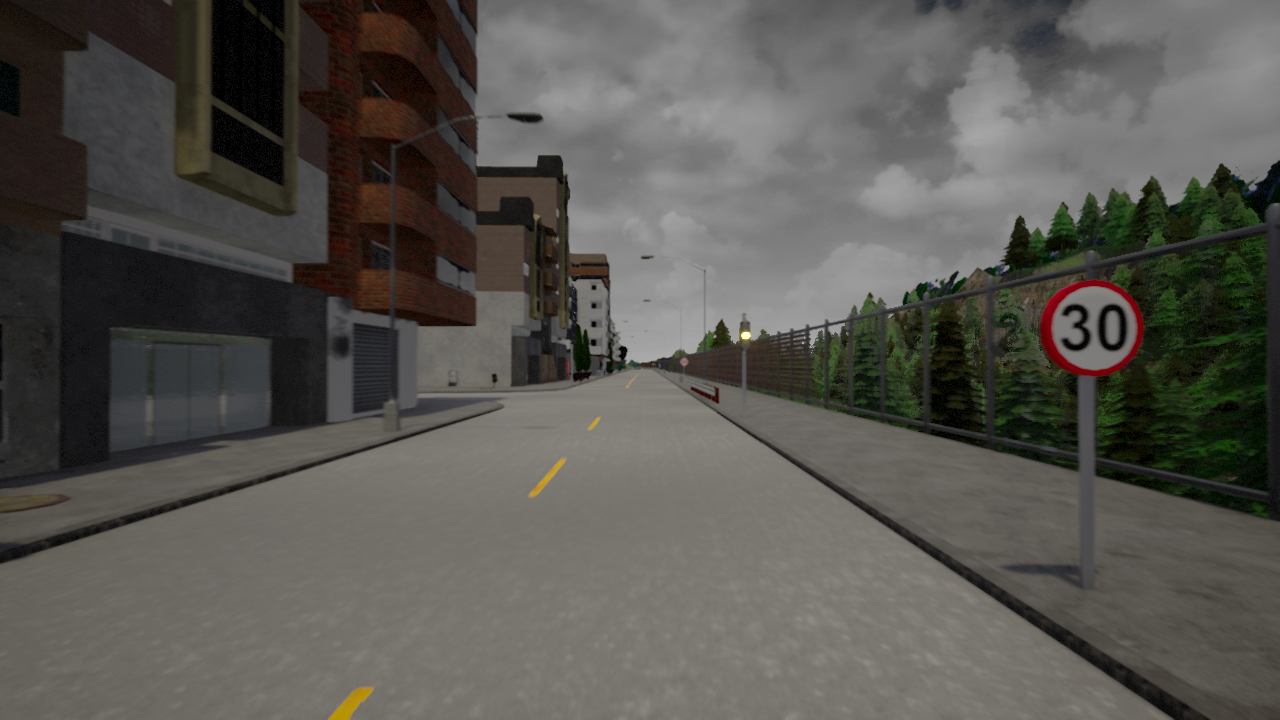yellow: (739, 320, 752, 352)
